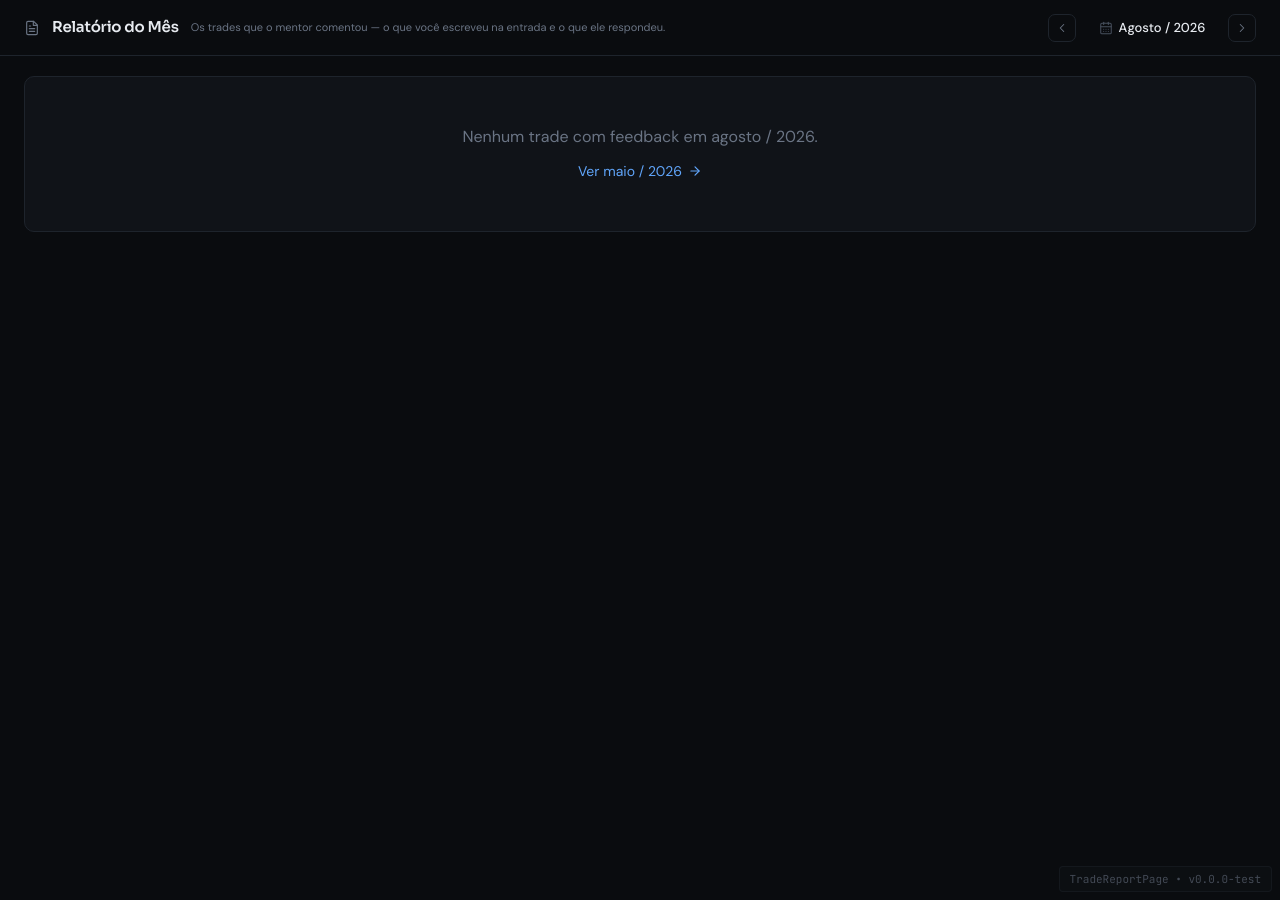
TradeReportPage › mês vazio oferece atalho pro mês mais recente que tem feedback
The image size is (1280, 900).
Click the button "Ver maio / 2026".
click(640, 171)  # box [578,161,702,181]
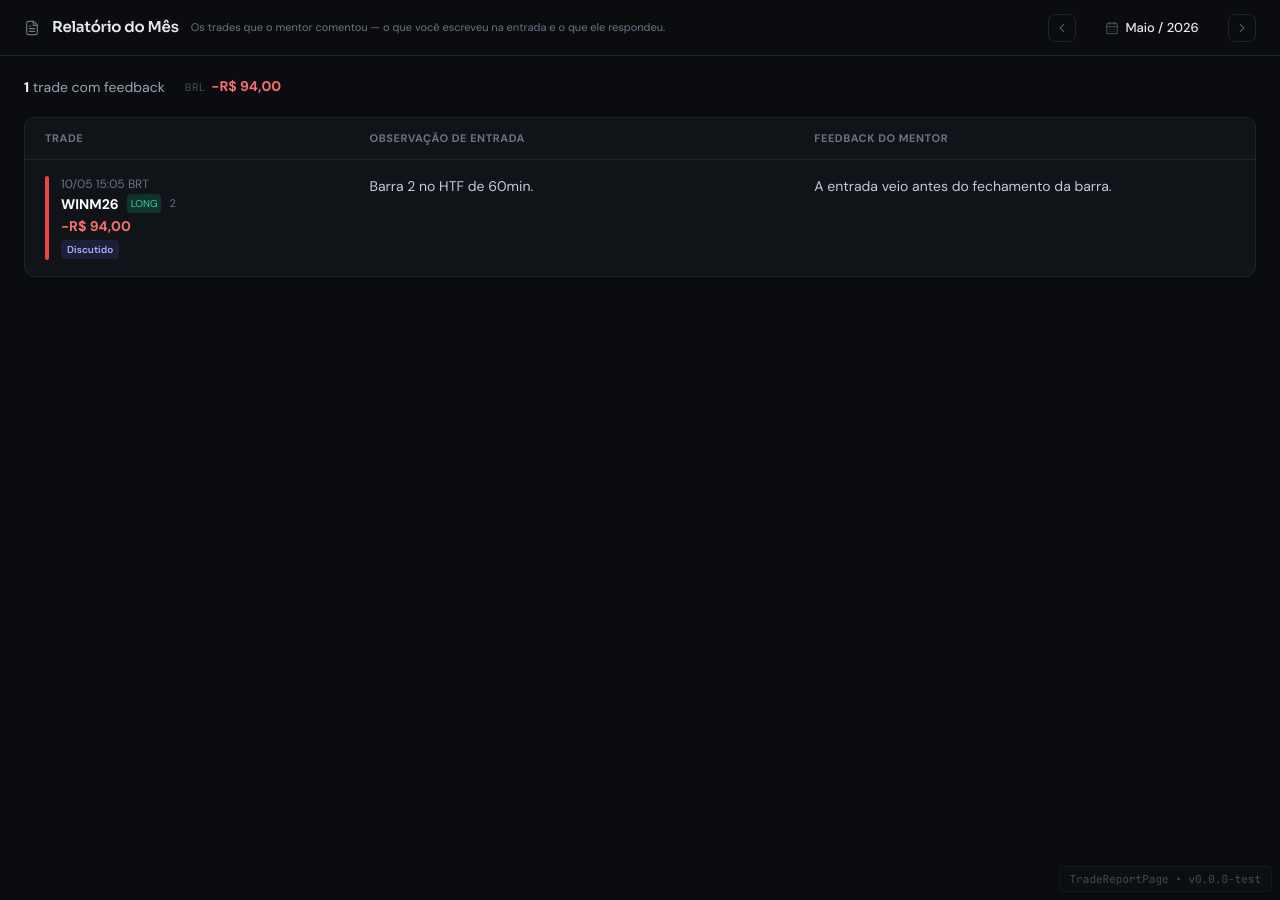
Now the text "maio / 2026" is shown, box [1105,19,1199,36]
Now the text "WINM26" is shown, box [61,194,119,214]
